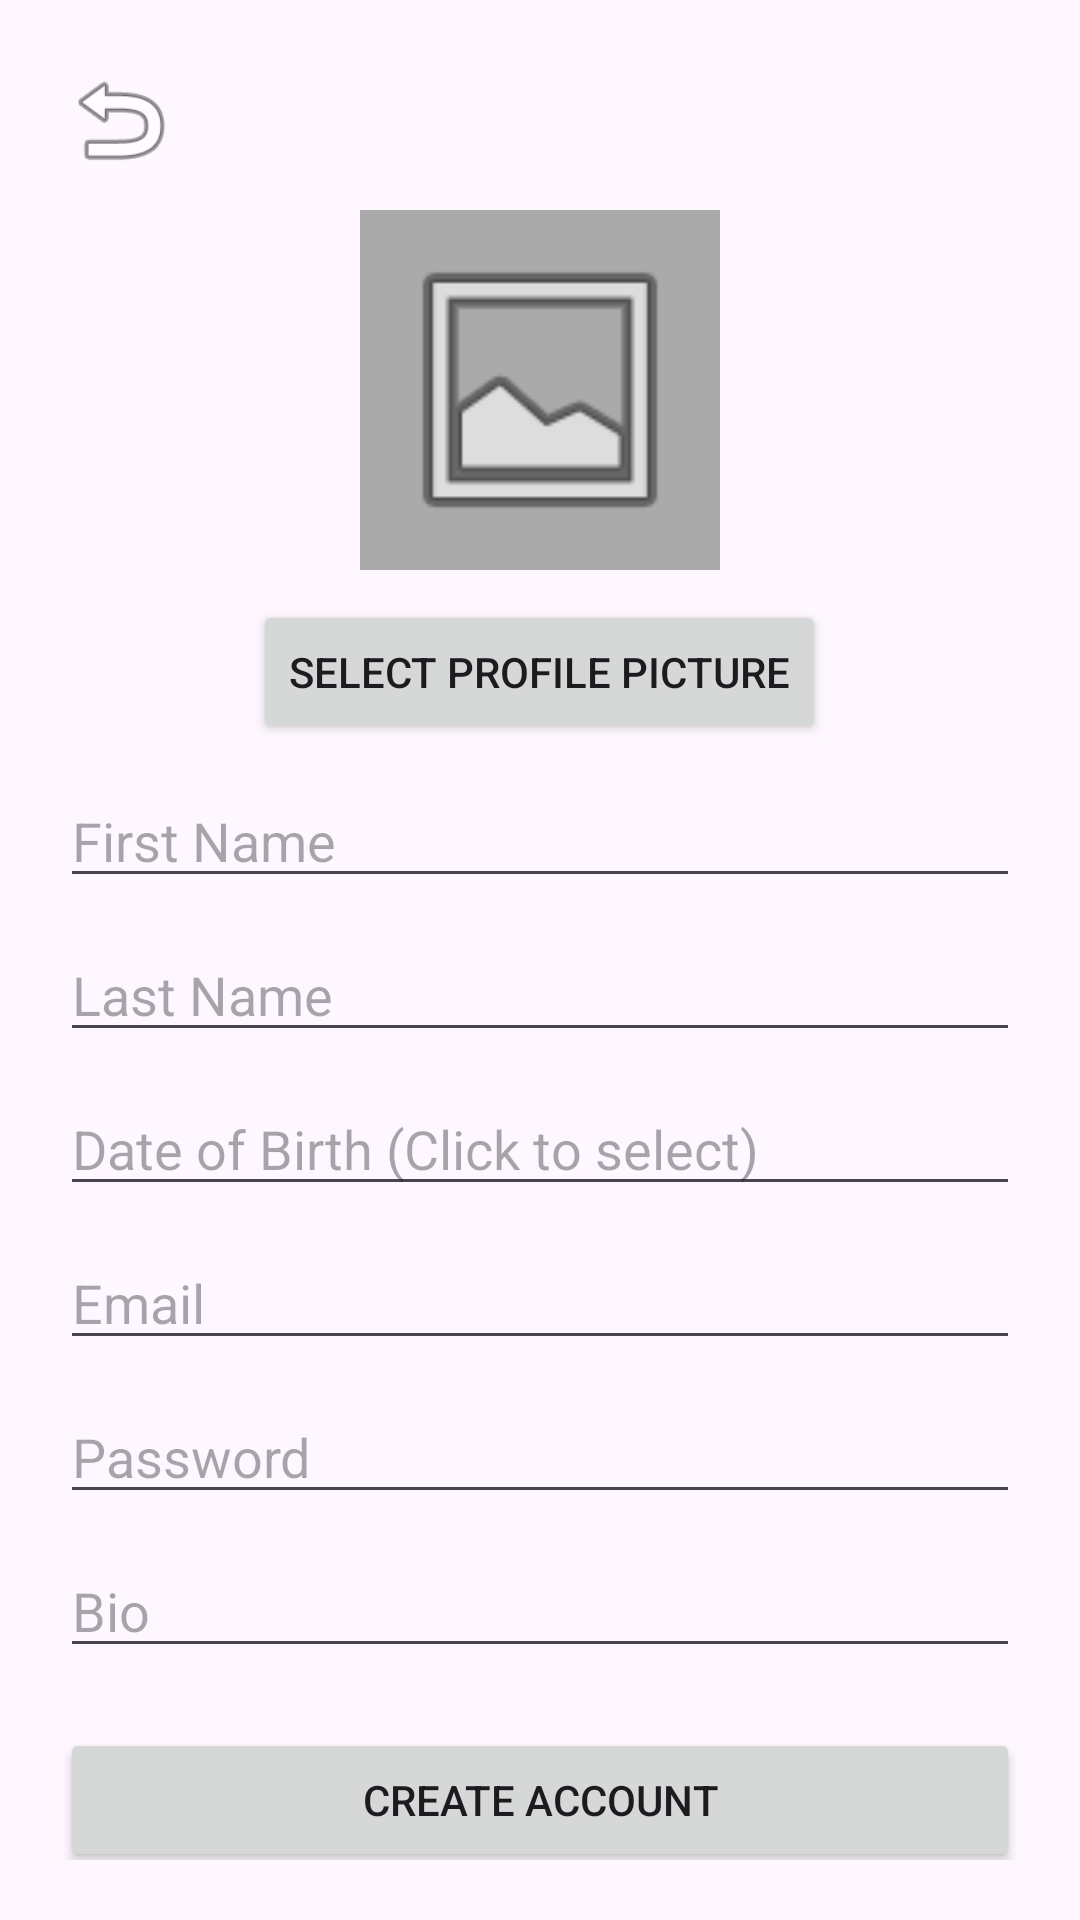

Screen size 1080 × 1920. Icon name, then its box in pixels as box=[x1, y1, x2, y2]:
Back: box=[78, 81, 165, 160]
